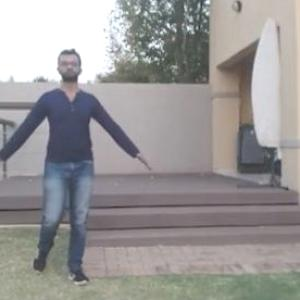land: (0, 56, 146, 280)
